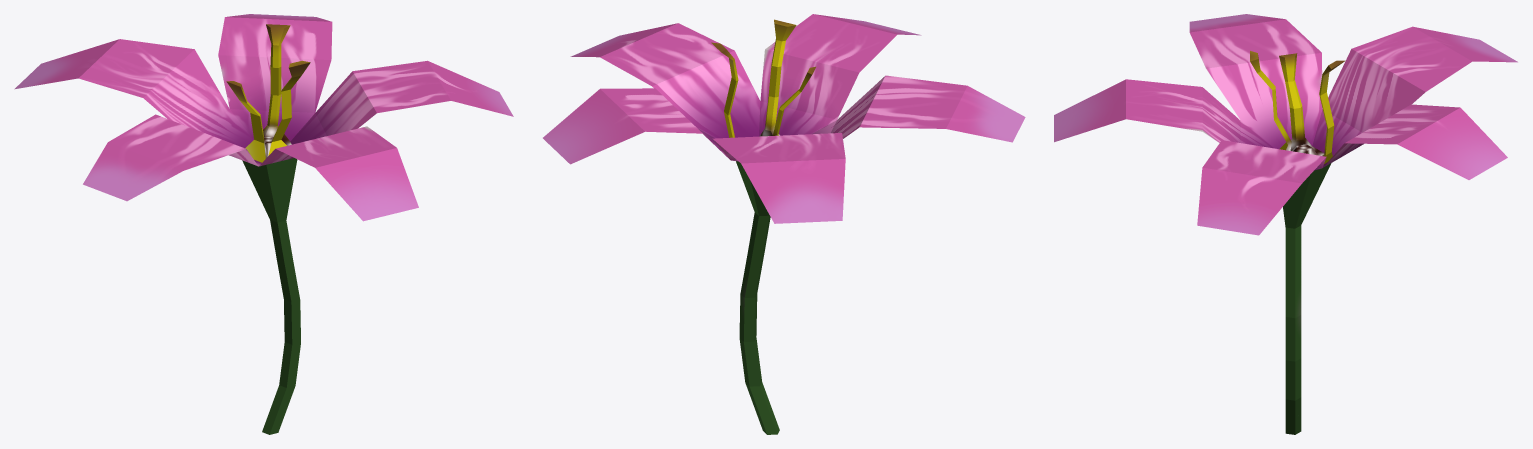
File: flower 1.fbx
3 views of the same model, side by side, from view 1: azimuth 30°, elevation 25°; view 2: azimuth 150°, elevation 25°; view 3: azimuth 270°, elevation 25° (orthographic). The views are drawn at different scales.
Parts seen in each view (by area): view 1: Circle; view 2: Circle; view 3: Circle.
Part boxes in pixels (left/top/right/bottom): Circle: left=14, top=14, right=513, bottom=434; Circle: left=543, top=14, right=1025, bottom=434; Circle: left=1054, top=14, right=1517, bottom=434.
Bounding box in the file's own units: 4789 × 4134 × 4563.
